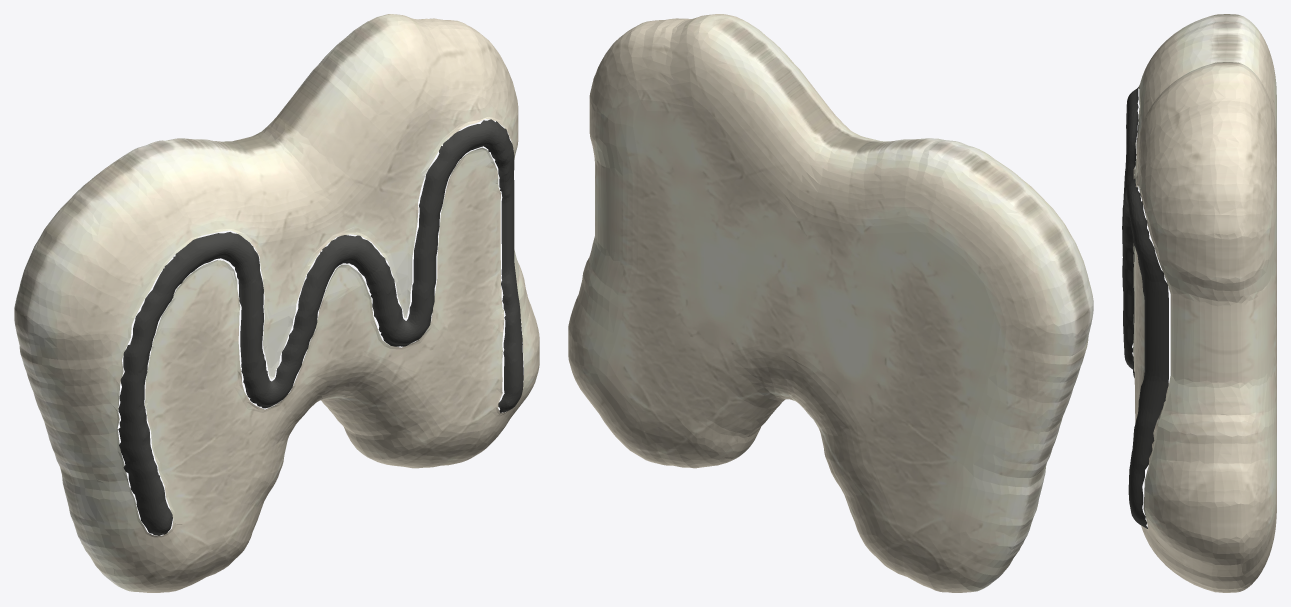
The model's file is IAMWE_XMAS_M.glb.
3 renders of one model, left to right at view 1: azimuth 30°, elevation 25°; view 2: azimuth 150°, elevation 25°; view 3: azimuth 270°, elevation 25°, orthographic. The views are drawn at different scales.
Parts seen in each view (by area): view 1: m_paper, m_thread; view 2: m_paper; view 3: m_paper, m_thread.
Part boxes in pixels (x1,y1,x2,y2): m_paper: (14, 14, 539, 592); m_thread: (118, 119, 523, 535); m_paper: (568, 14, 1093, 592); m_paper: (1133, 14, 1276, 592); m_thread: (1122, 87, 1168, 528).
Size of the model in its own units: 1 by 0.9583 by 0.2419.
Materials: 2 (1 with a texture image).
